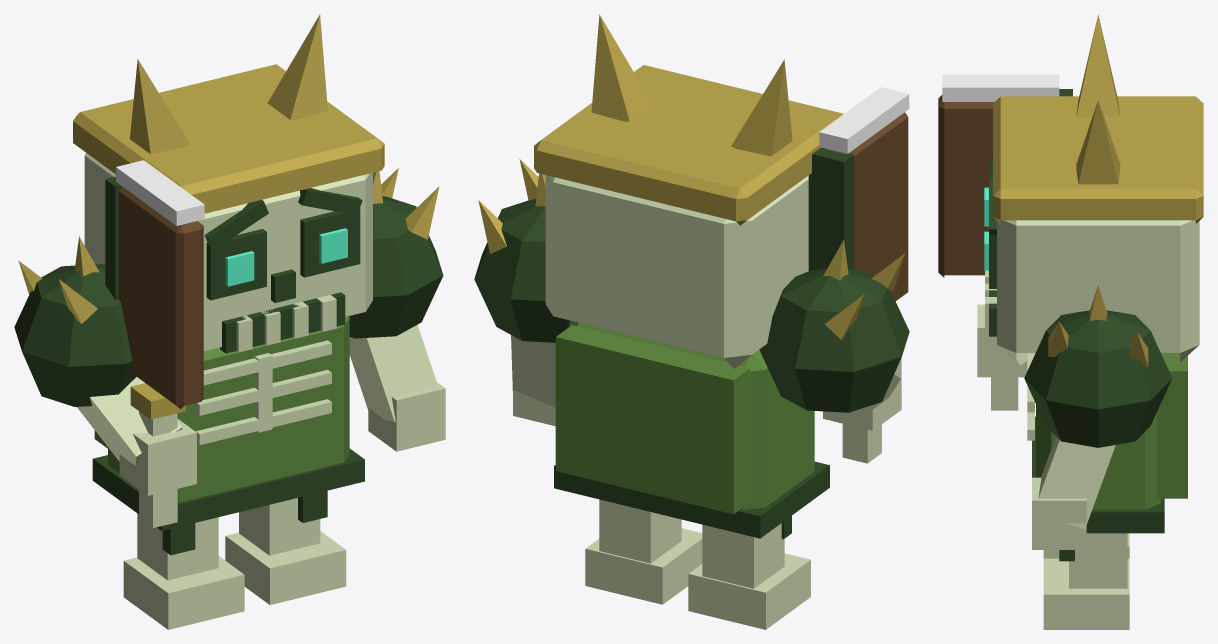
File: warlord_r6.glb
3 views of the same model, side by side, from view 1: azimuth 30°, elevation 25°; view 2: azimuth 150°, elevation 25°; view 3: azimuth 270°, elevation 25° (orthographic). The views are drawn at different scales.
Visible parts, largest first — view 1: warlord_r6_mesh; view 2: warlord_r6_mesh; view 3: warlord_r6_mesh.
Part boxes in pixels (<box>): warlord_r6_mesh: <box>14,14,445,629</box>; warlord_r6_mesh: <box>474,14,909,629</box>; warlord_r6_mesh: <box>938,14,1203,629</box>.
Bounding box in the file's own units: 2.83 × 3.6 × 1.63.
1 material, 1 textured.
